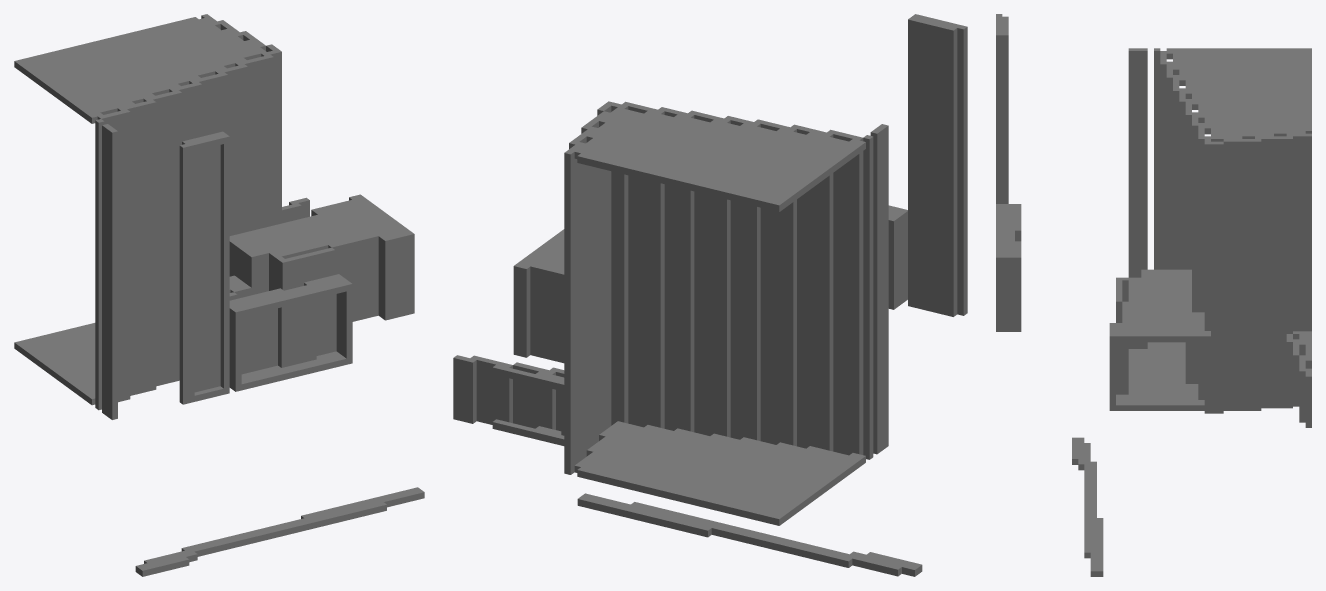
Rendered from tile_1_5.glb.
3 views of the same model, side by side, from view 1: azimuth 30°, elevation 25°; view 2: azimuth 150°, elevation 25°; view 3: azimuth 270°, elevation 25° (orthographic). The views are drawn at different scales.
Visible parts, largest first — view 1: universal_minecraft:concrete:south, universal_minecraft:stone_bricks:south, universal_minecraft:stained_terracotta:up, universal_minecraft:terracotta:up, universal_minecraft:stone_bricks:west, universal_minecraft:concrete:west, universal_minecraft:grass_block:up, universal_minecraft:concrete:up, universal_minecraft:stone_bricks:up, universal_minecraft:terracotta:south, universal_minecraft:grass_block:south, universal_minecraft:grass_block:west (+1 smaller); view 2: universal_minecraft:concrete:north, universal_minecraft:concrete:west, universal_minecraft:stone_bricks:north, universal_minecraft:stained_terracotta:up, universal_minecraft:grass_block:up, universal_minecraft:concrete:up, universal_minecraft:stone_bricks:west, universal_minecraft:grass_block:north, universal_minecraft:stained_terracotta:north, universal_minecraft:terracotta:up, universal_minecraft:grass_block:west, universal_minecraft:stained_terracotta:west; view 3: universal_minecraft:concrete:east, universal_minecraft:stained_terracotta:up, universal_minecraft:stone_bricks:east, universal_minecraft:terracotta:up, universal_minecraft:grass_block:up, universal_minecraft:concrete:up, universal_minecraft:stone_bricks:up, universal_minecraft:terracotta:east, universal_minecraft:stained_terracotta:east, universal_minecraft:grass_block:east.
Boxes of the visible parts, <box> form: universal_minecraft:concrete:south: <box>98,24,424,576</box>; universal_minecraft:stone_bricks:south: <box>183,136,414,404</box>; universal_minecraft:stained_terracotta:up: <box>14,17,266,117</box>; universal_minecraft:terracotta:up: <box>191,135,410,310</box>; universal_minecraft:stone_bricks:west: <box>179,141,385,404</box>; universal_minecraft:concrete:west: <box>95,15,303,576</box>; universal_minecraft:grass_block:up: <box>14,323,346,398</box>; universal_minecraft:concrete:up: <box>96,14,424,570</box>; universal_minecraft:stone_bricks:up: <box>180,131,413,312</box>; universal_minecraft:terracotta:south: <box>194,138,346,316</box>; universal_minecraft:grass_block:south: <box>92,359,346,405</box>; universal_minecraft:grass_block:west: <box>14,342,91,404</box>; universal_minecraft:concrete:north: <box>453,105,914,576</box>; universal_minecraft:concrete:west: <box>473,106,922,576</box>; universal_minecraft:stone_bricks:north: <box>513,19,963,363</box>; universal_minecraft:stained_terracotta:up: <box>493,107,865,384</box>; universal_minecraft:grass_block:up: <box>493,419,865,519</box>; universal_minecraft:concrete:up: <box>453,101,921,569</box>; universal_minecraft:stone_bricks:west: <box>526,27,967,357</box>; universal_minecraft:grass_block:north: <box>492,422,779,525</box>; universal_minecraft:stained_terracotta:north: <box>492,121,779,391</box>; universal_minecraft:terracotta:up: <box>518,15,953,270</box>; universal_minecraft:grass_block:west: <box>779,456,865,525</box>; universal_minecraft:stained_terracotta:west: <box>779,142,865,211</box>; universal_minecraft:concrete:east: <box>1072,51,1311,576</box>; universal_minecraft:stained_terracotta:up: <box>1166,48,1311,360</box>; universal_minecraft:stone_bricks:east: <box>996,35,1210,410</box>; universal_minecraft:terracotta:up: <box>996,19,1204,336</box>; universal_minecraft:grass_block:up: <box>1116,342,1204,405</box>; universal_minecraft:concrete:up: <box>1072,48,1311,571</box>; universal_minecraft:stone_bricks:up: <box>996,14,1210,336</box>; universal_minecraft:terracotta:east: <box>1116,336,1204,342</box>; universal_minecraft:stained_terracotta:east: <box>1166,53,1311,366</box>; universal_minecraft:grass_block:east: <box>1116,405,1204,410</box>.
Bounding box in the file's own units: 50 × 75 × 50.
Materials: 28 (28 with a texture image).
